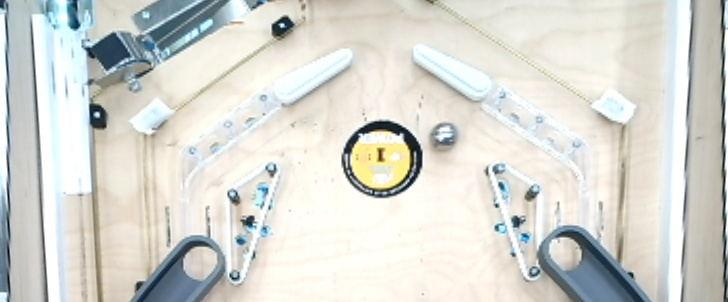ball: (421, 118, 463, 156)
flipper-left: (408, 43, 500, 106)
flipper-right: (271, 45, 354, 109)
